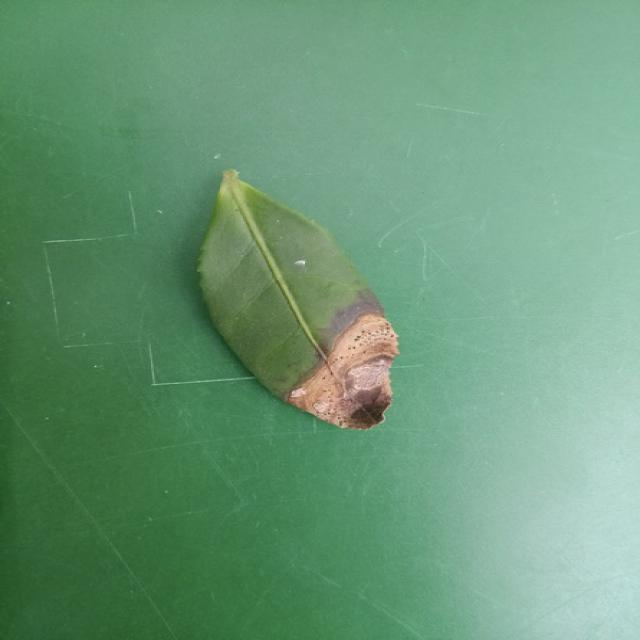Tea cloud leaf blight: (296, 307, 399, 432)
